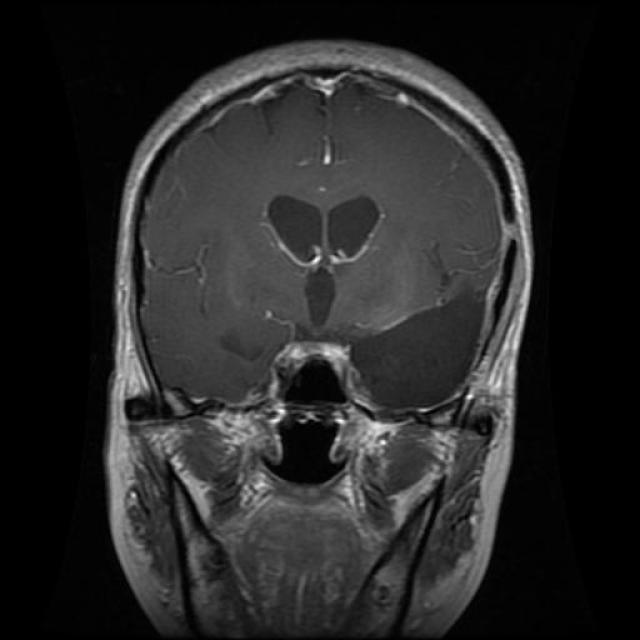glioma: (269, 194, 385, 270)
